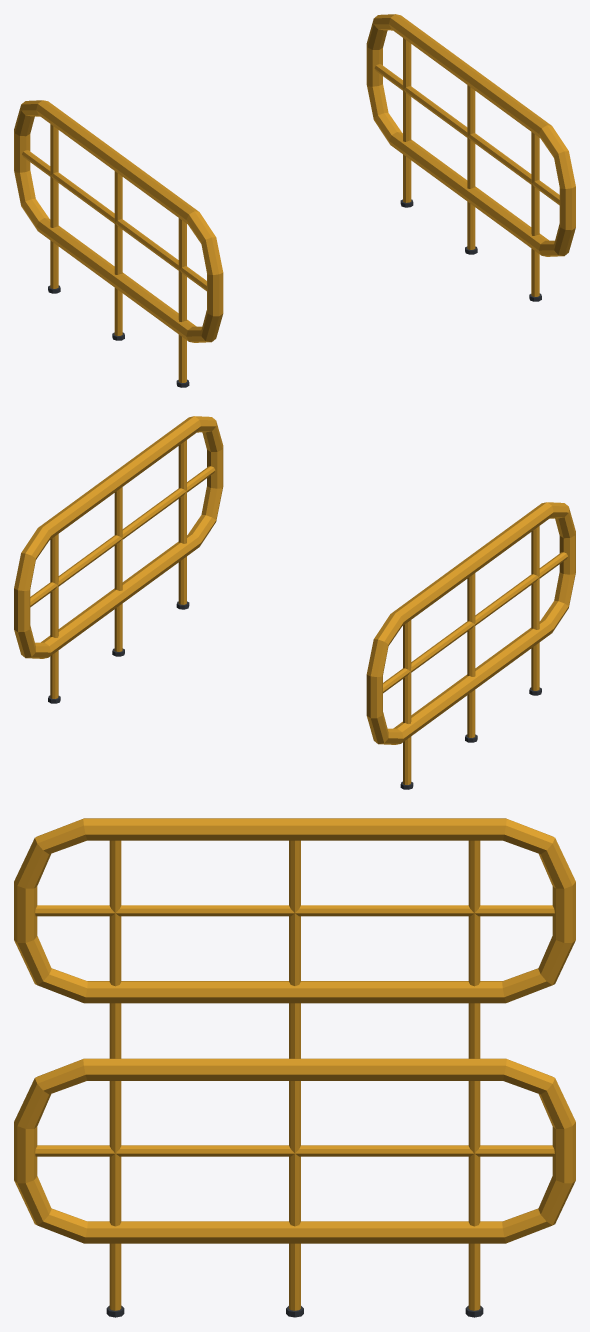
The model's file is Railing_Straight_Dual.fbx.
3 renders of one model, top to bottom at view 1: azimuth 30°, elevation 25°; view 2: azimuth 150°, elevation 25°; view 3: azimuth 270°, elevation 25°, orthographic. The views are drawn at different scales.
Visible parts, largest first — view 1: Railing_Straight_Dual; view 2: Railing_Straight_Dual; view 3: Railing_Straight_Dual.
Part boxes in pixels (bbox=[...]): Railing_Straight_Dual: bbox=[14, 14, 575, 387]; Railing_Straight_Dual: bbox=[14, 416, 575, 789]; Railing_Straight_Dual: bbox=[14, 818, 575, 1317].
Bounding box in the file's own units: 198 × 93.92 × 188.
